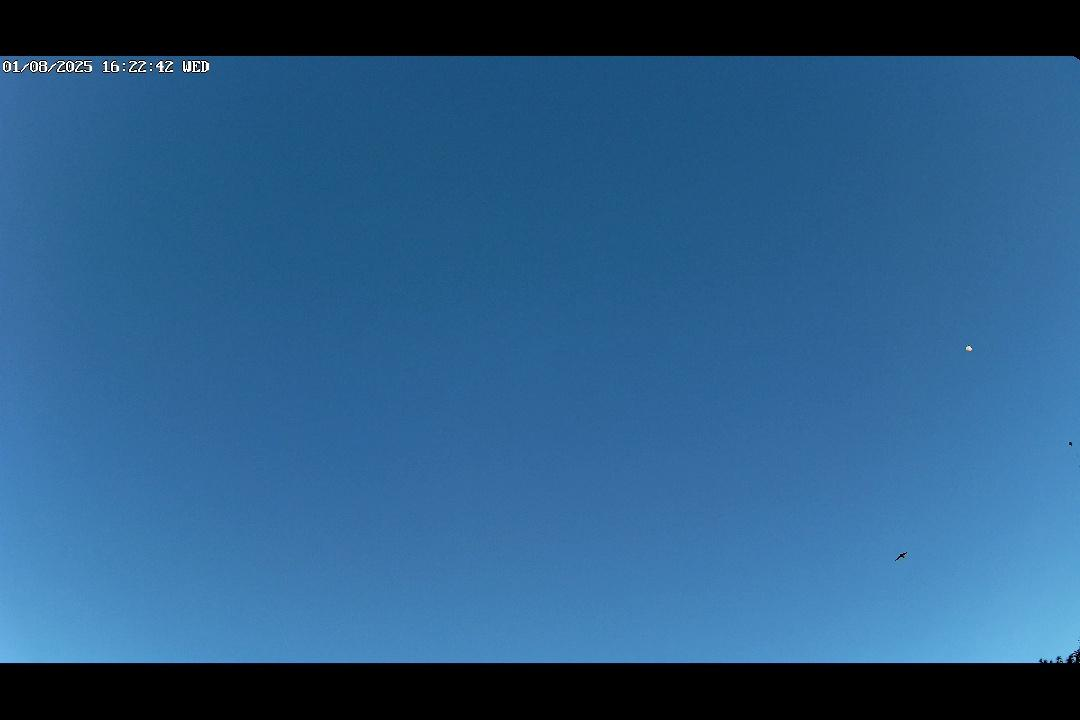WildLife: (880, 544, 921, 567), (1056, 432, 1079, 453)
